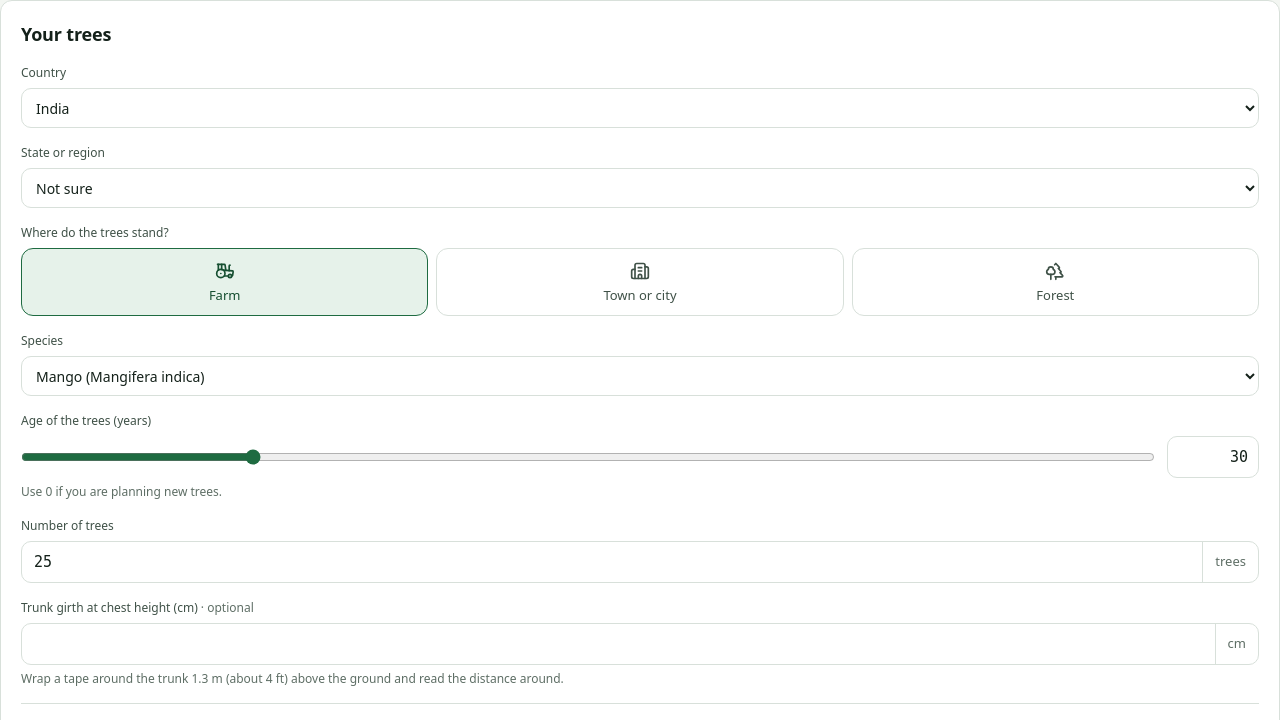
Test case: InputsCard › explains a mistake in the age box and sends nothing for it
Clear the field labelled "Age of the trees (years)": (1213, 457) [1168,437,1258,477]
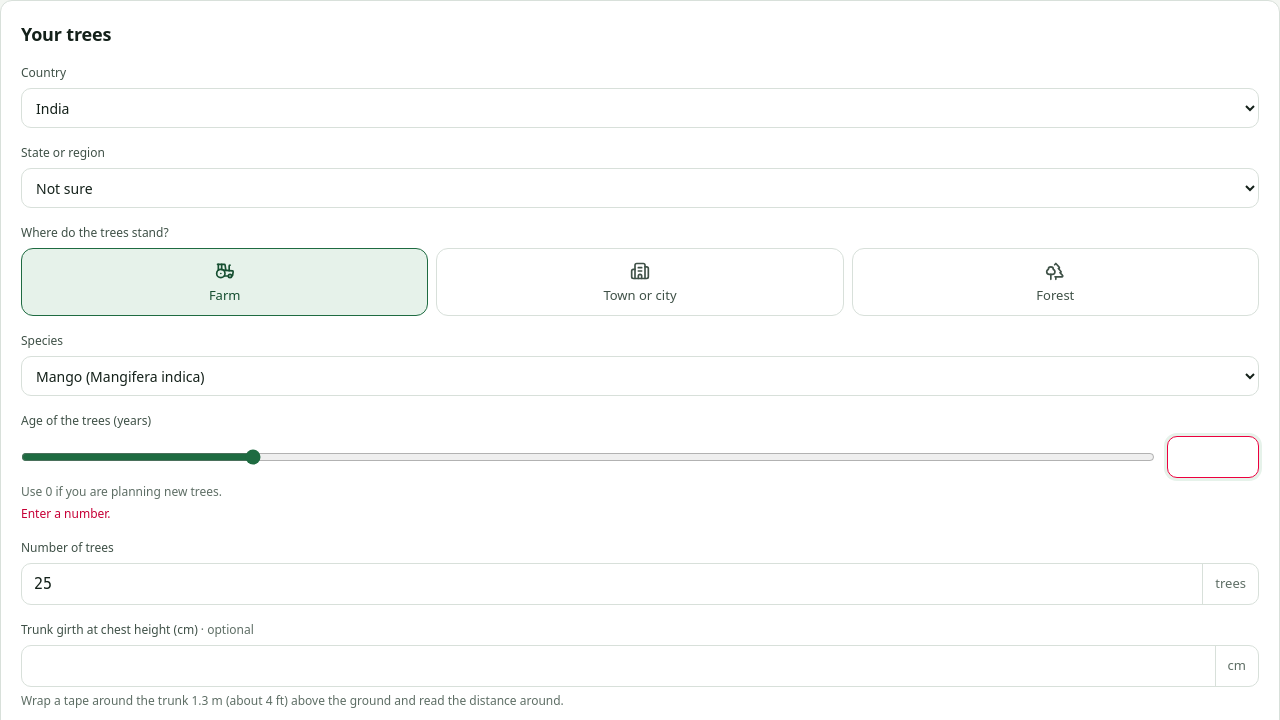
Expected: the text "Enter a number." is shown, [21,505,111,522]
In the field labelled "Age of the trees (years)": (1213, 457) [1168,437,1258,477], type "4.5"
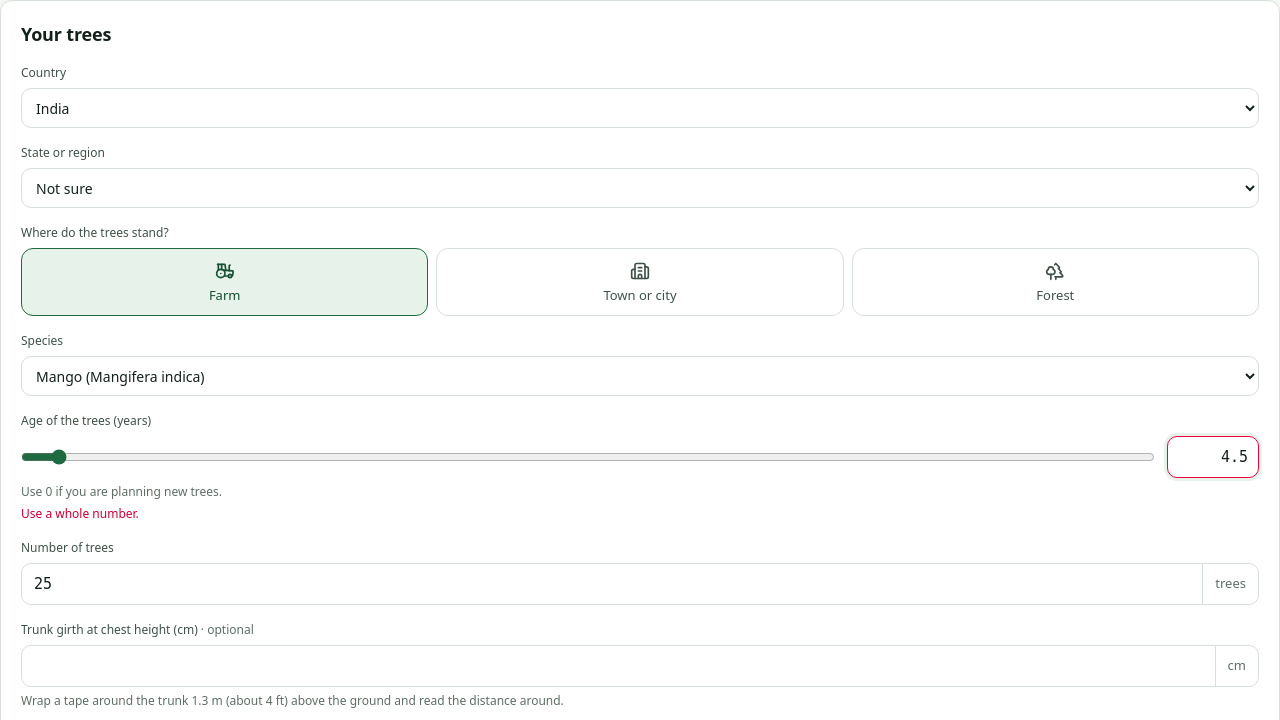
Expected: the text "Use a whole number." is shown, [21,505,139,522]
Replace the text in the field labelled "Age of the trees (years)" with "301": (1213, 457) [1168,437,1258,477]
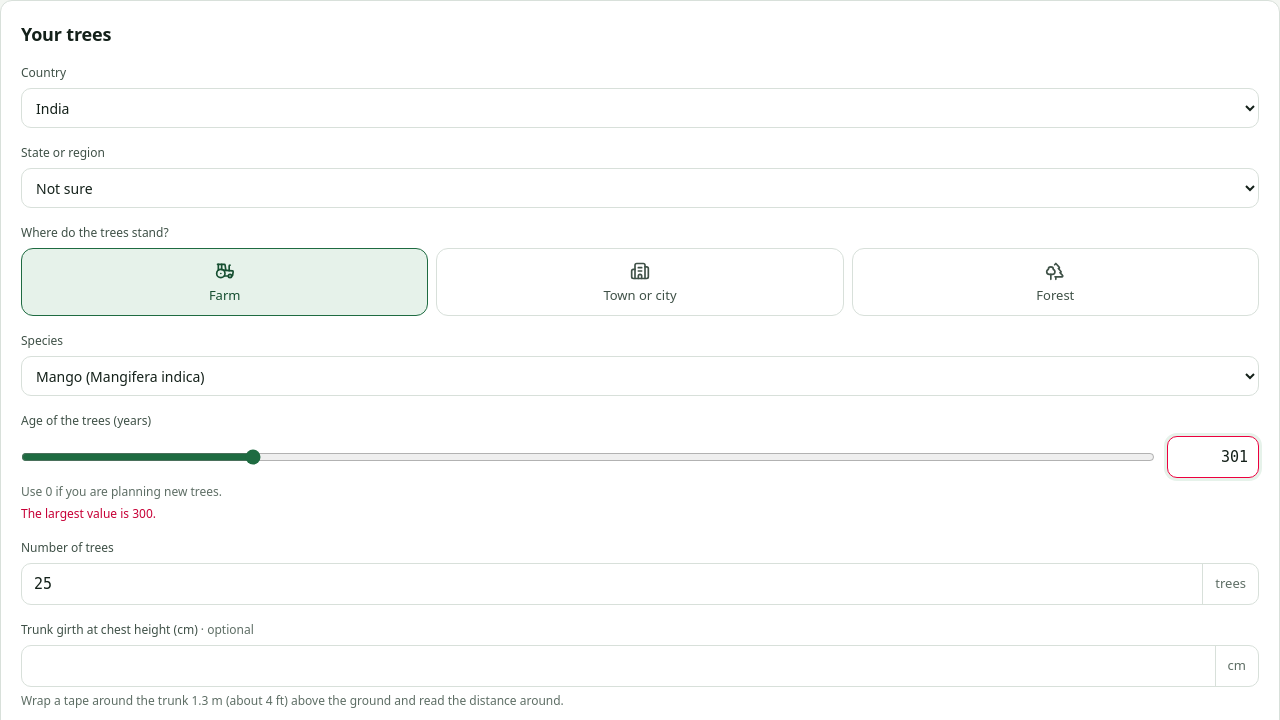
Expected: the text "The largest value is 300." is shown, [21,505,156,522]
Press Tab
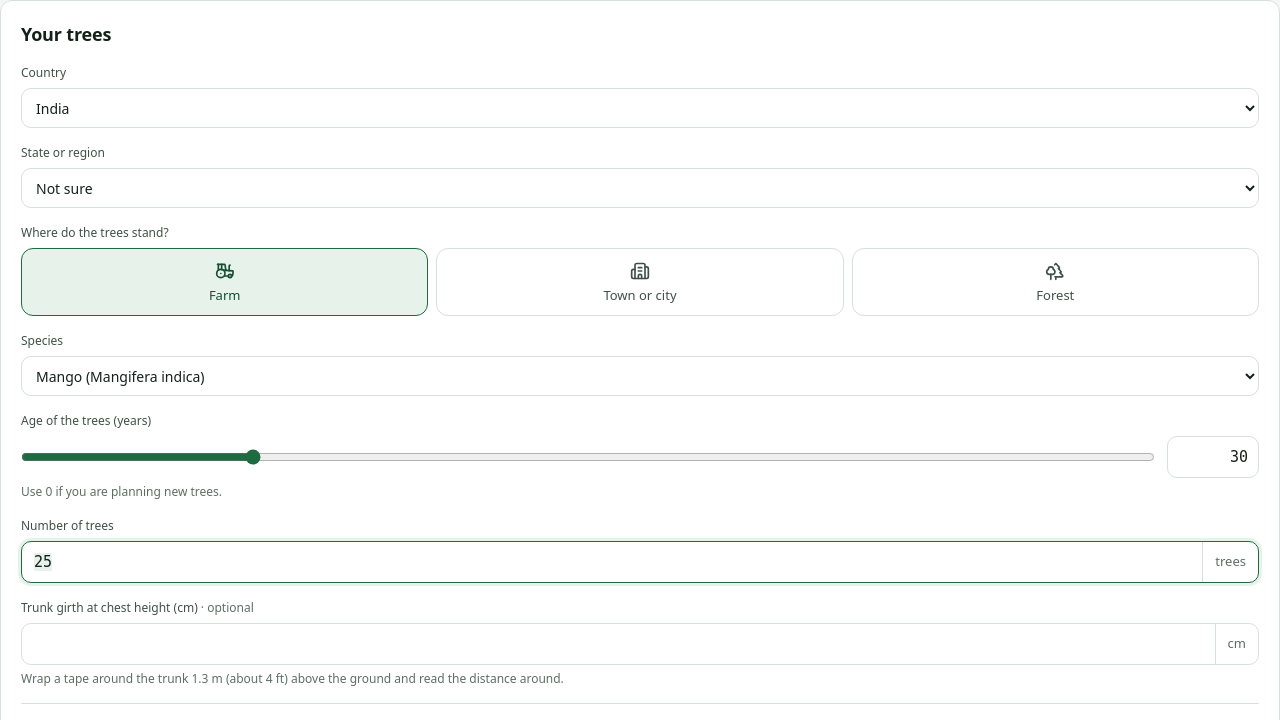
Expected: the field labelled "Age of the trees (years)" holds "30", [1168,437,1258,477]
